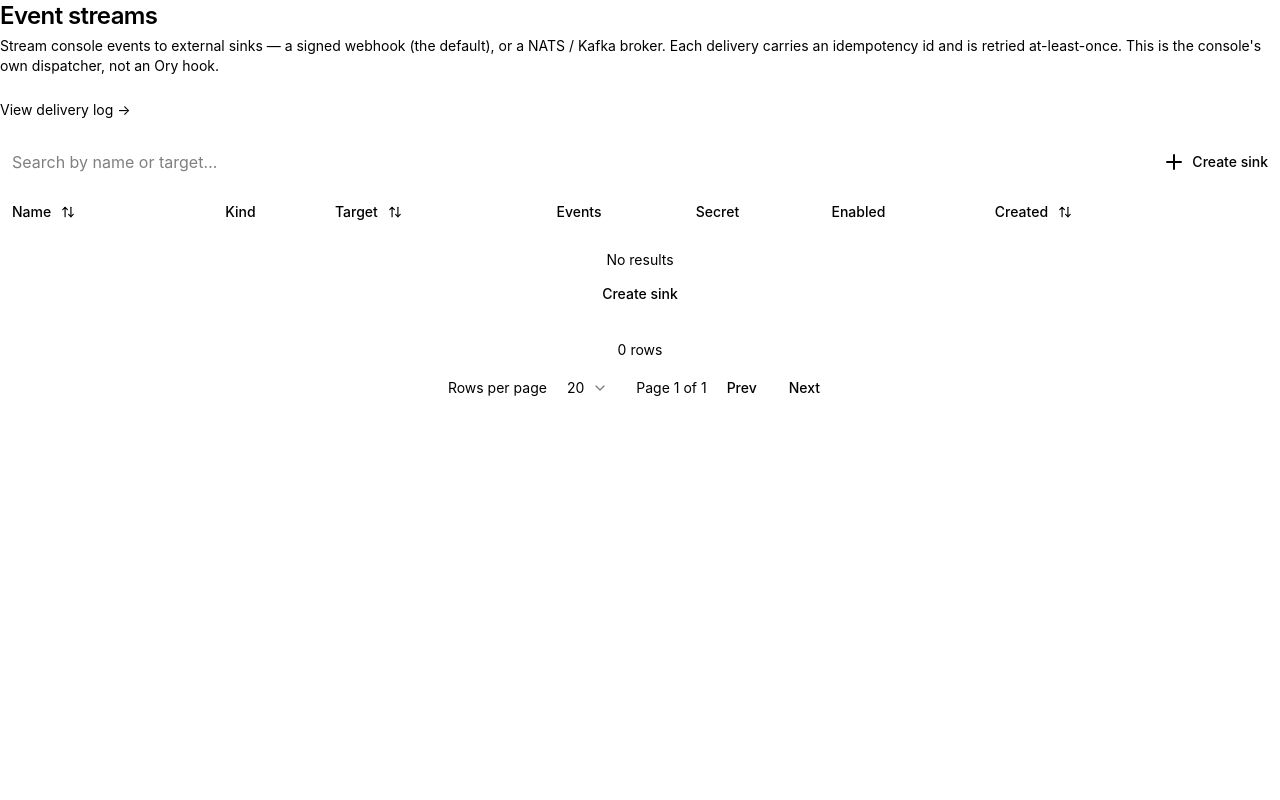
Event-streams page (EVT-01/02/03) › has NO Enterprise/license/requires-Ory copy
Click the 1st button "Create sink" at (1215, 162), box [1150,146,1279,178]
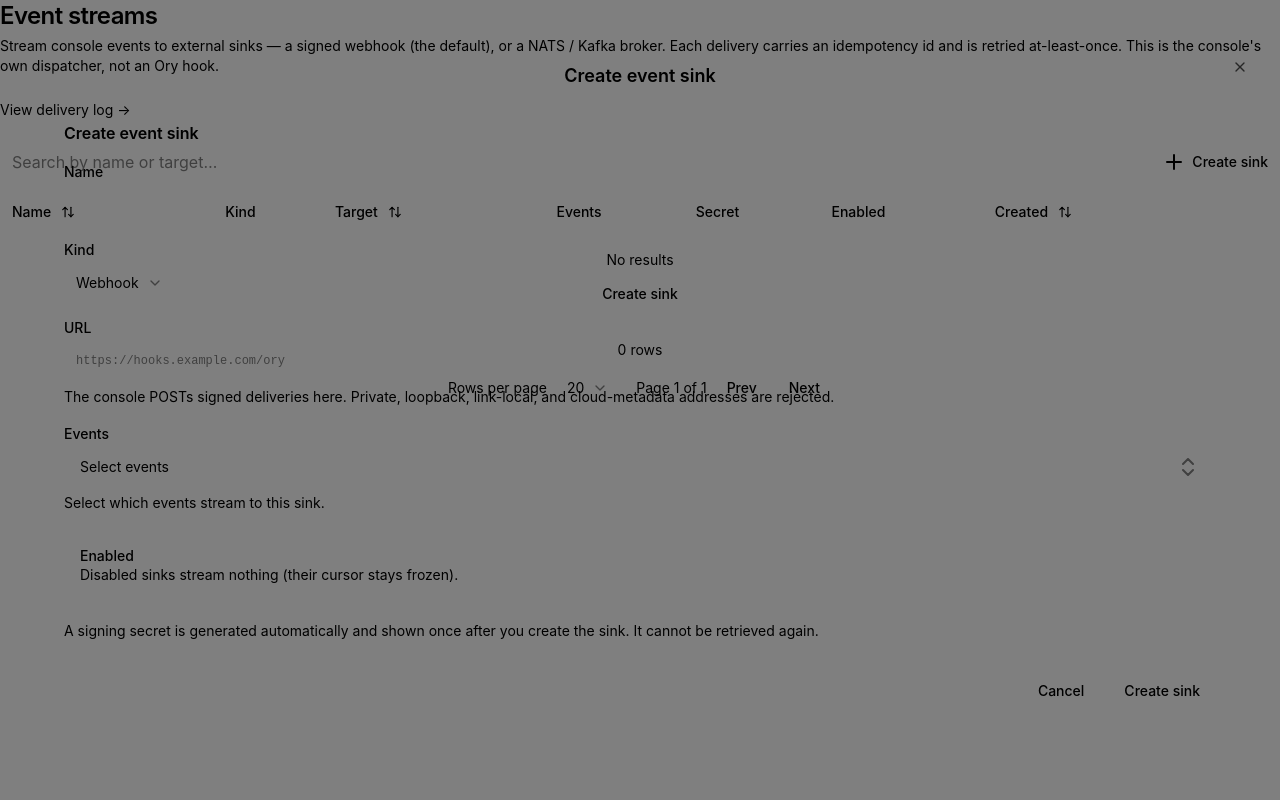
Expected: the dialog is shown
